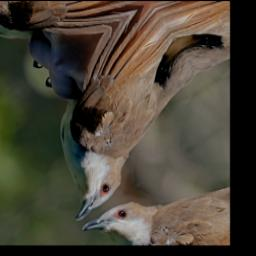Cuckoo: (0, 1, 228, 223)
